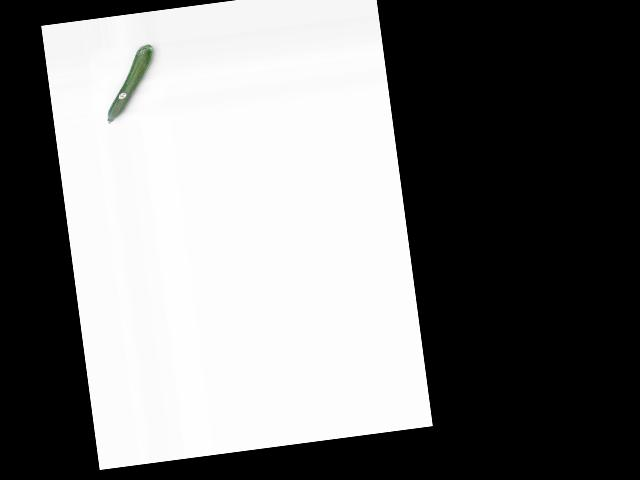cucumber: (98, 44, 161, 124)
